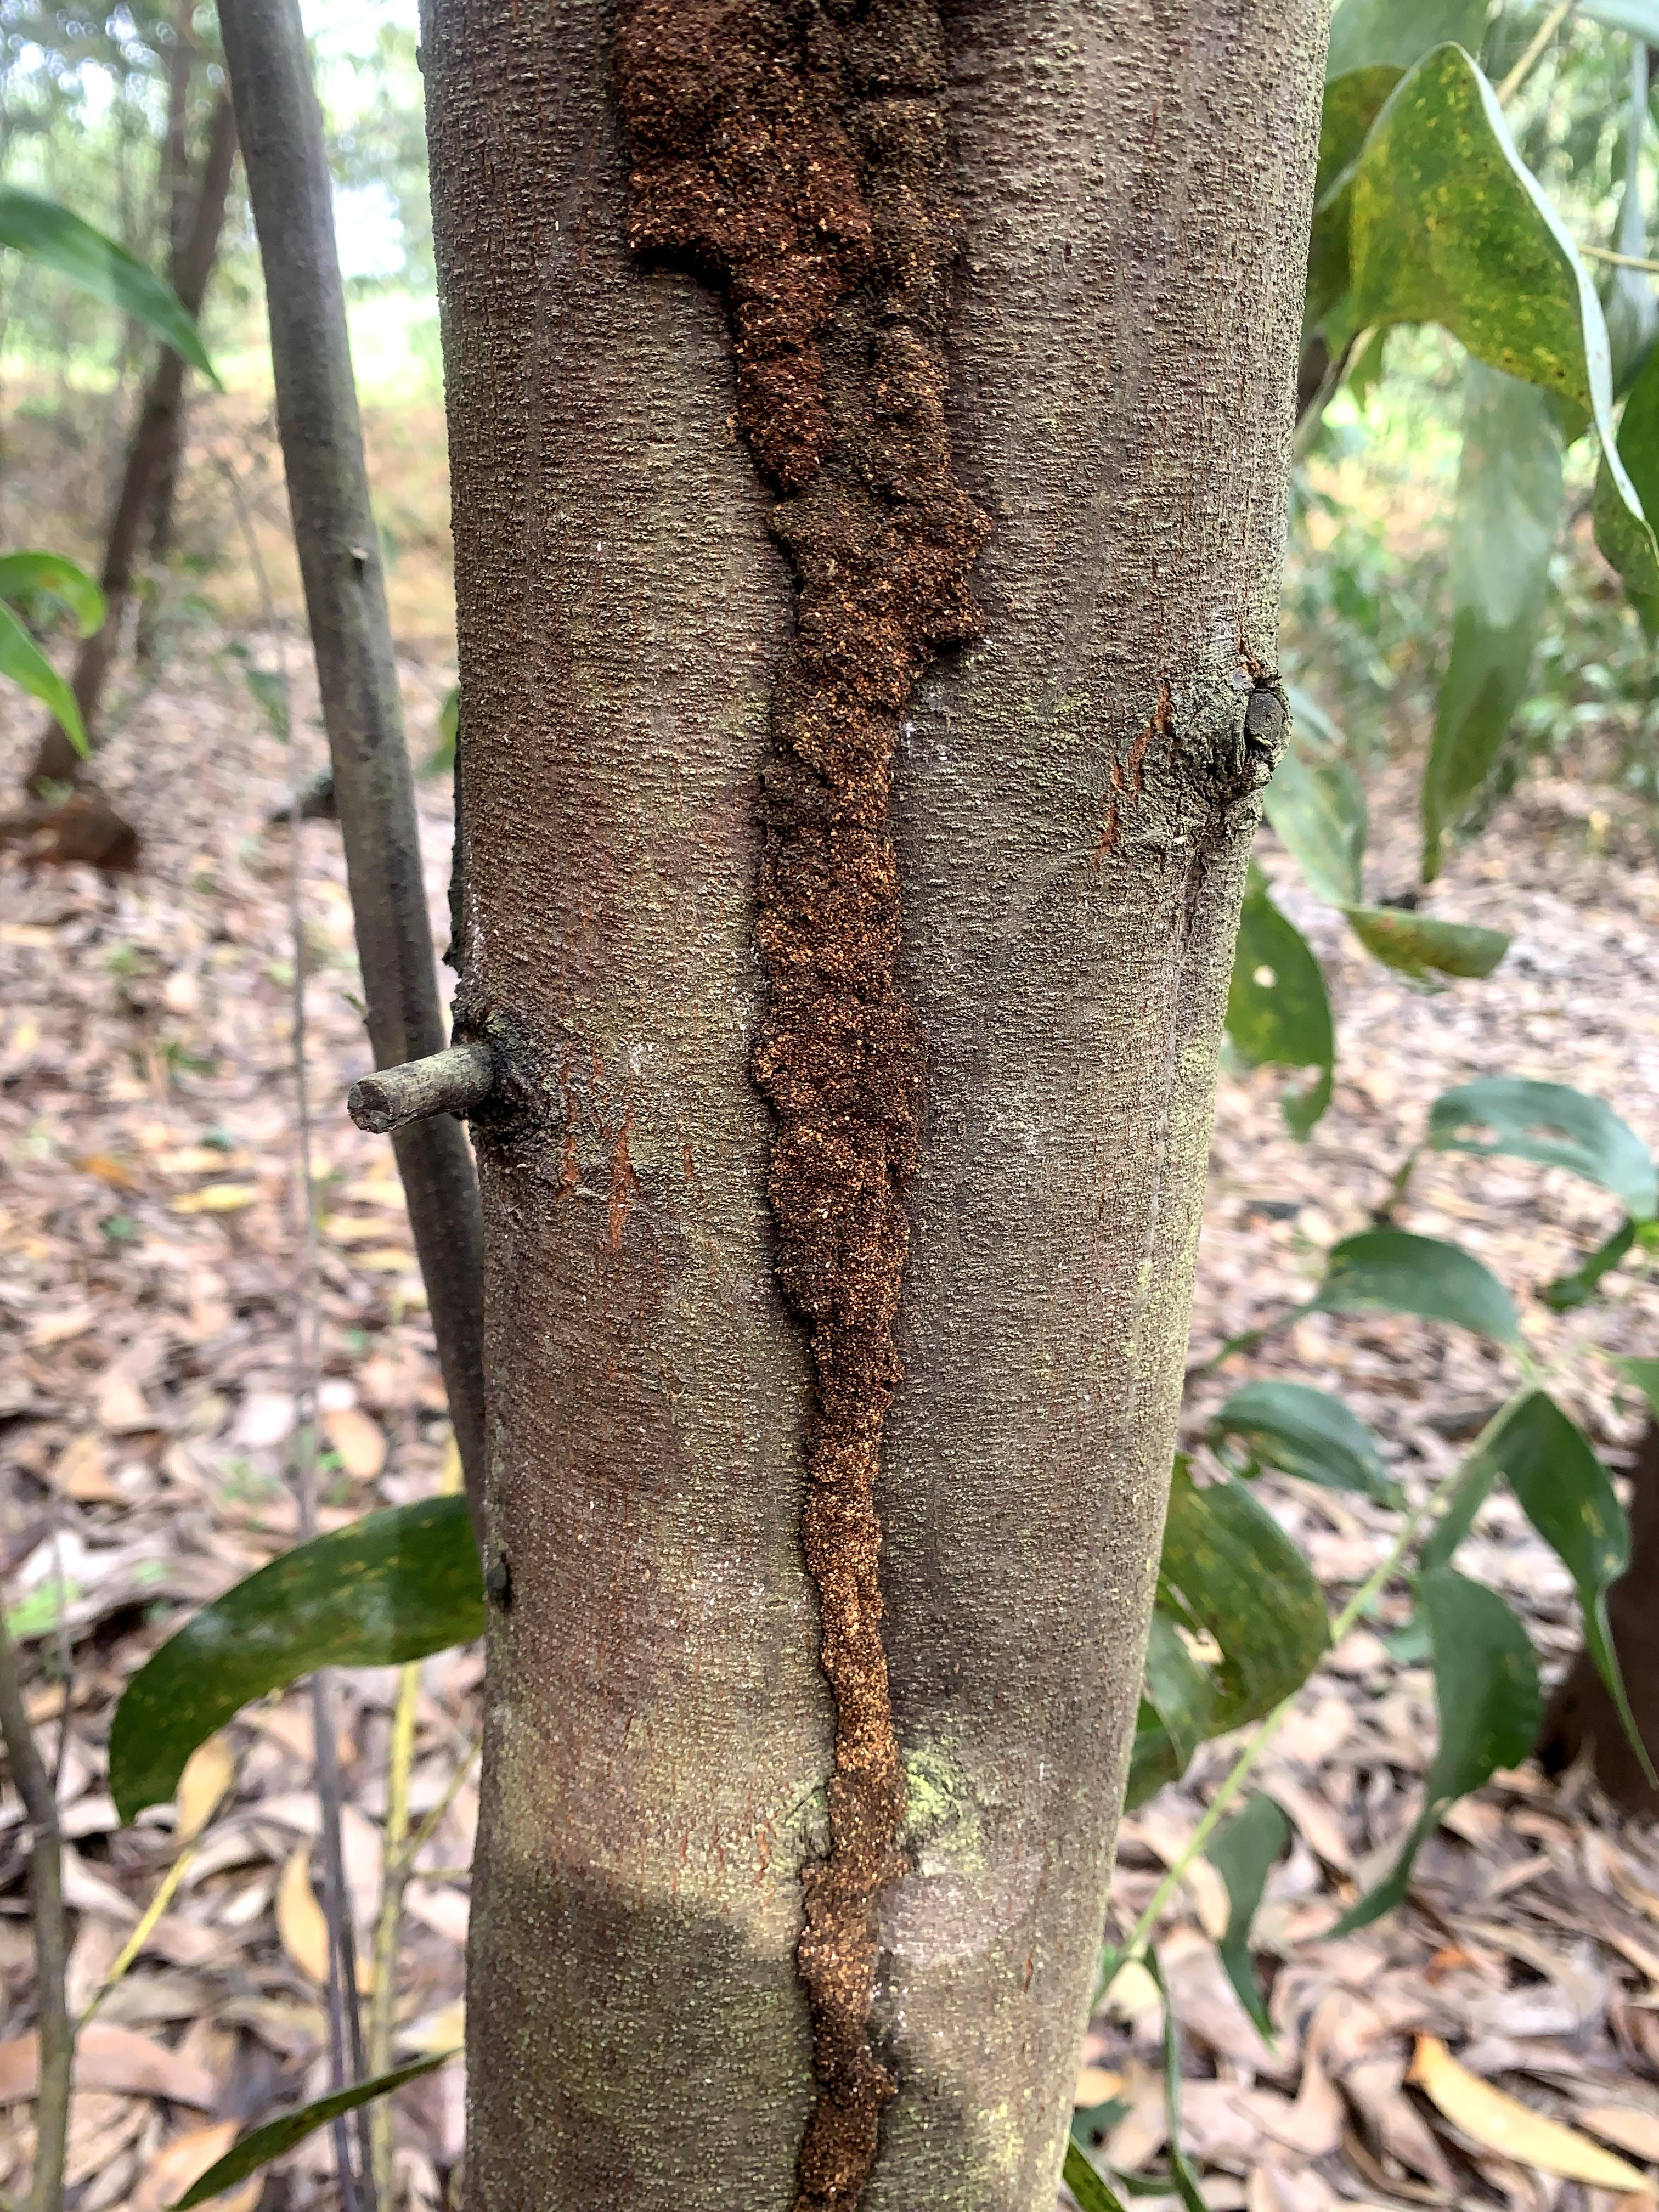Termite - Nest: (561, 0, 1042, 2212)
